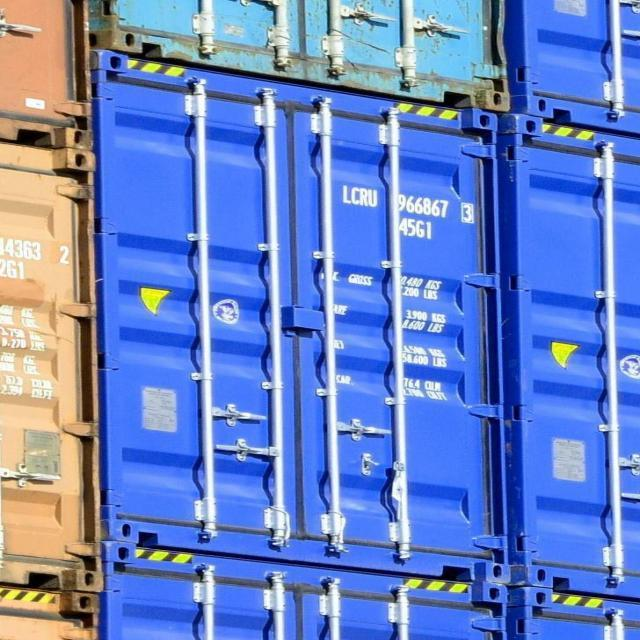ISO: (397, 214, 434, 240)
container_number: (342, 182, 484, 220)
